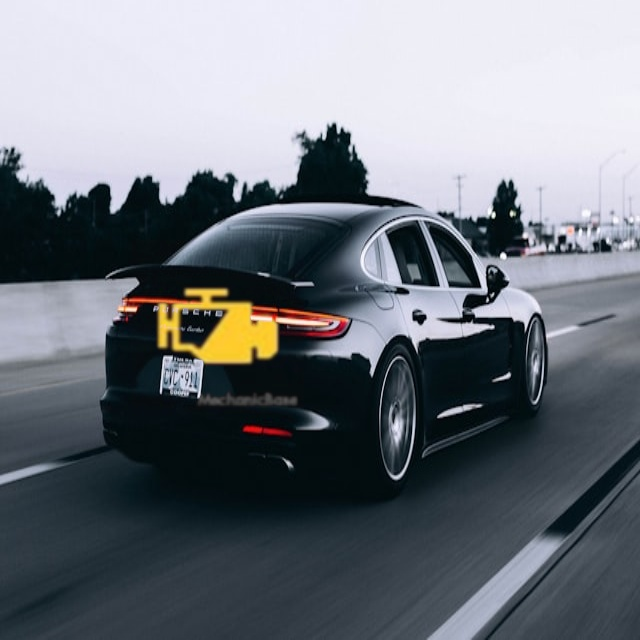symbol: (130, 240, 304, 414)
